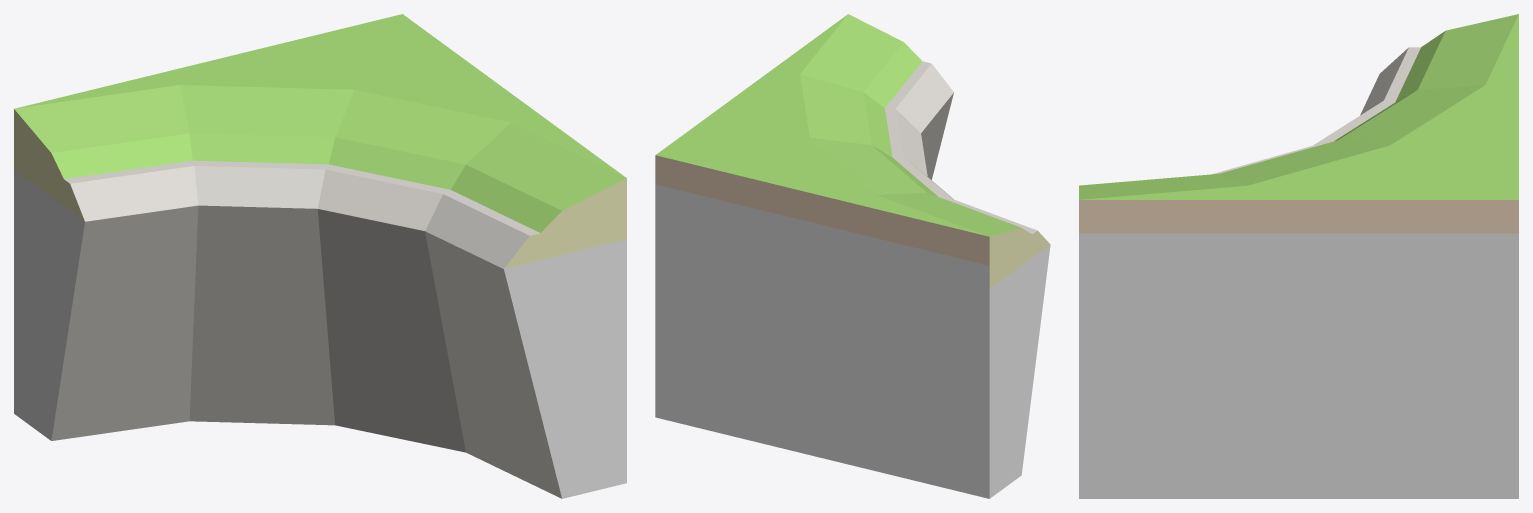
The model's file is Basic_Curve_Inner_3x3_Top.fbx.
3 views of the same model, side by side, from view 1: azimuth 30°, elevation 25°; view 2: azimuth 150°, elevation 25°; view 3: azimuth 270°, elevation 25° (orthographic). The views are drawn at different scales.
Parts seen in each view (by area): view 1: Basic_Curve_Inner_3x3_Top; view 2: Basic_Curve_Inner_3x3_Top; view 3: Basic_Curve_Inner_3x3_Top.
Boxes of the visible parts, bbox=[...] form: Basic_Curve_Inner_3x3_Top: bbox=[14, 14, 626, 498]; Basic_Curve_Inner_3x3_Top: bbox=[655, 14, 1050, 498]; Basic_Curve_Inner_3x3_Top: bbox=[1079, 14, 1518, 498].
Bounding box in the file's own units: 300 × 225 × 300.
